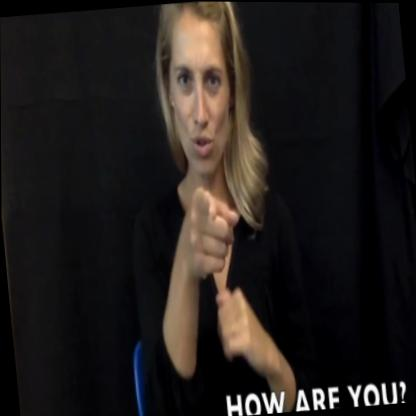HowAreYou: (156, 152, 299, 397)
